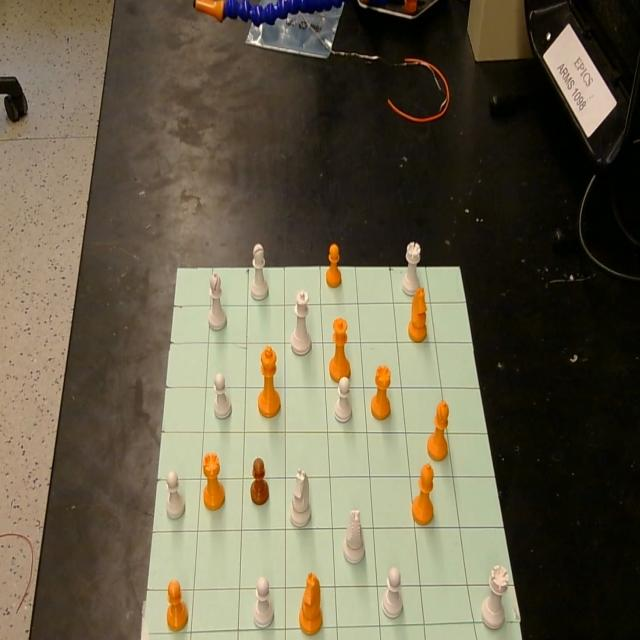orange_bishop: (411, 463, 435, 525), (426, 399, 449, 462)
orange_king: (258, 345, 281, 419), (203, 452, 225, 510)
orange_knight: (299, 571, 323, 634), (408, 286, 427, 343)
orange_pawn: (166, 578, 188, 631), (250, 458, 269, 506), (326, 243, 342, 288)
orange_queen: (329, 318, 350, 383), (371, 365, 392, 420)
white_bishop: (208, 270, 227, 331), (250, 244, 268, 301)
white_knight: (289, 468, 311, 526), (342, 509, 364, 563)
white_pawn: (382, 566, 404, 620), (253, 575, 274, 628), (165, 469, 185, 519), (212, 372, 232, 420), (334, 373, 352, 422)
white_queen: (291, 292, 311, 355)
white_rook: (481, 564, 509, 628), (402, 242, 421, 295)
